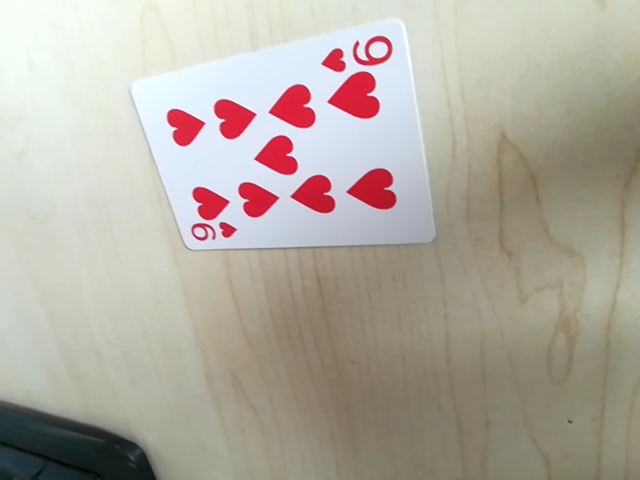hx 9: (318, 28, 402, 74), (185, 219, 239, 250)
